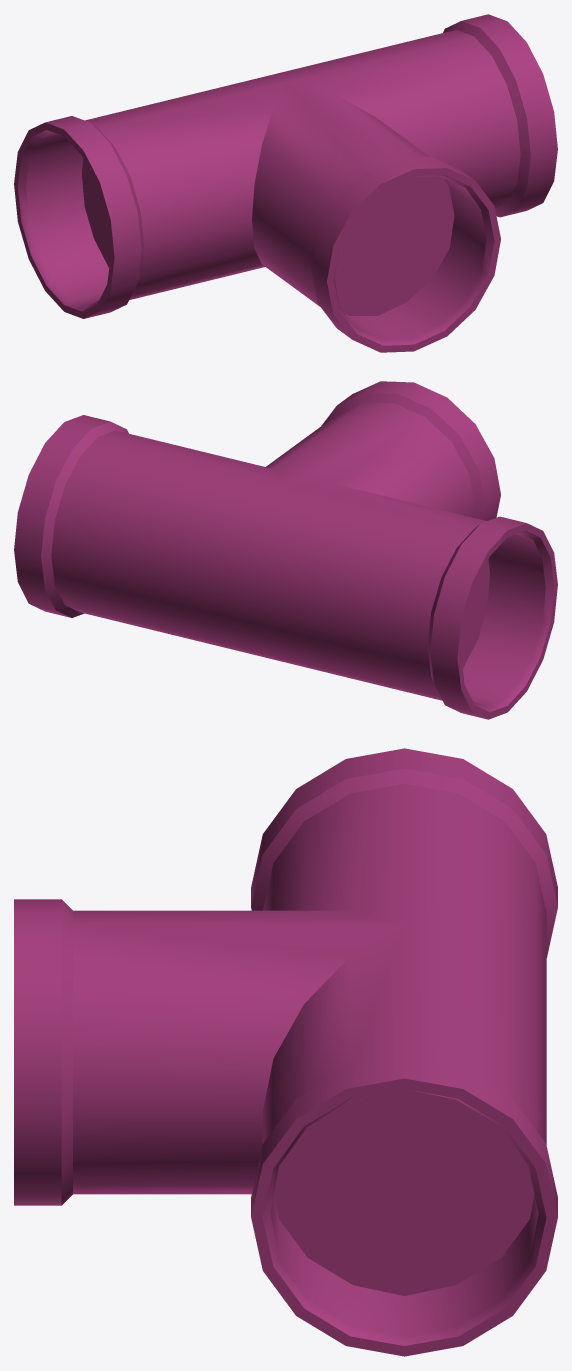
Rendered from Pipe_3_Junction.fbx.
The picture shows the model from 3 angles, top to bottom: view 1: azimuth 30°, elevation 25°; view 2: azimuth 150°, elevation 25°; view 3: azimuth 270°, elevation 25°; orthographic projection. The views are drawn at different scales.
Visible parts, largest first — view 1: Pipe_3_Junction; view 2: Pipe_3_Junction; view 3: Pipe_3_Junction.
Boxes of the visible parts, x1,y1,x2,y2 form: Pipe_3_Junction: [14, 14, 557, 352]; Pipe_3_Junction: [14, 381, 557, 719]; Pipe_3_Junction: [14, 748, 557, 1356].
Size of the model in its own units: 14.06 by 5.52 by 9.79.
